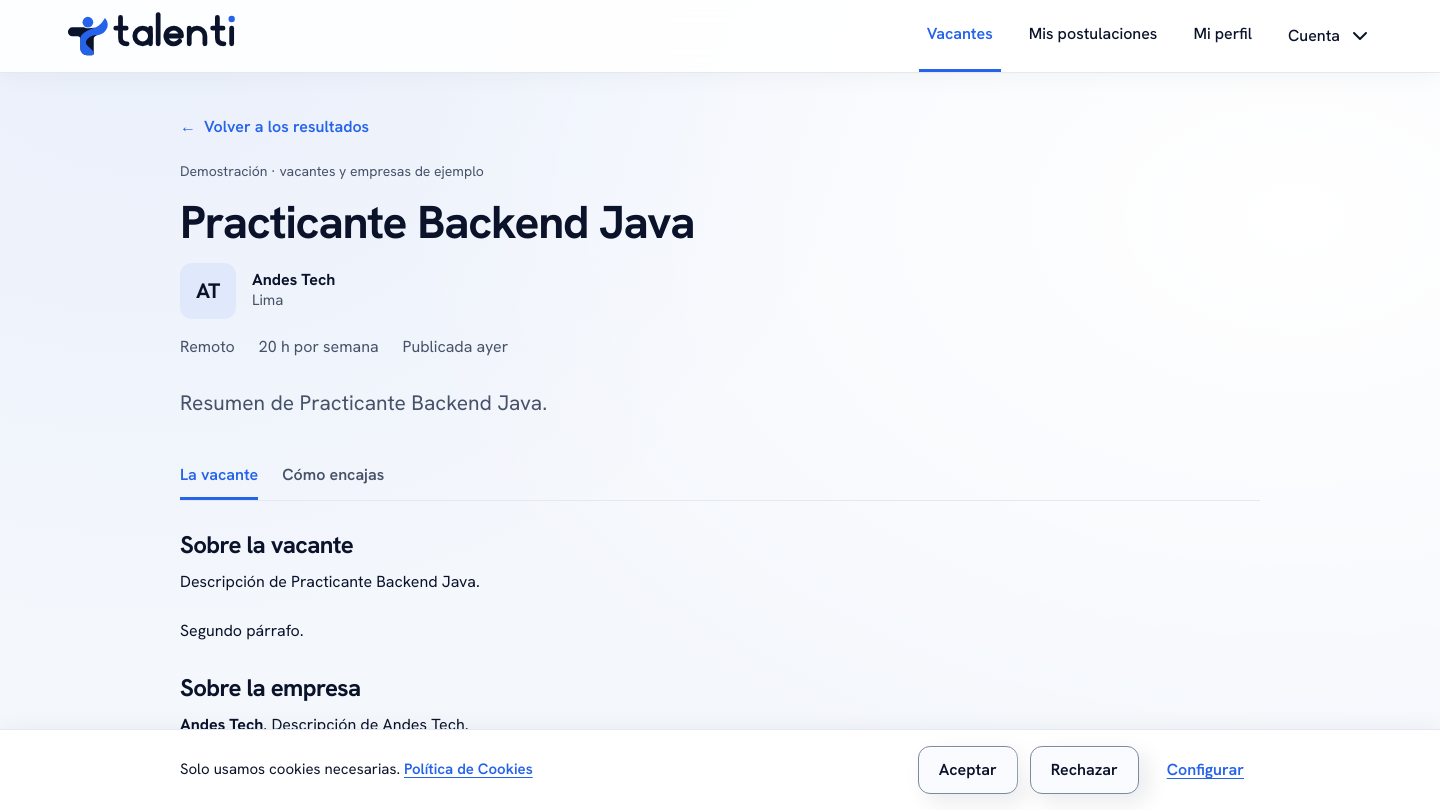
Scenario: Panel "Tu compatibilidad" in the detail (007-18 to 007-21) › 007-19: compares evidence in rows with contextual links and never editable requested levels
The width and height of the screenshot is (1440, 810).
Click the button "Cómo encajas" at (333, 476), box [282,452,384,500]
(page scrolled)
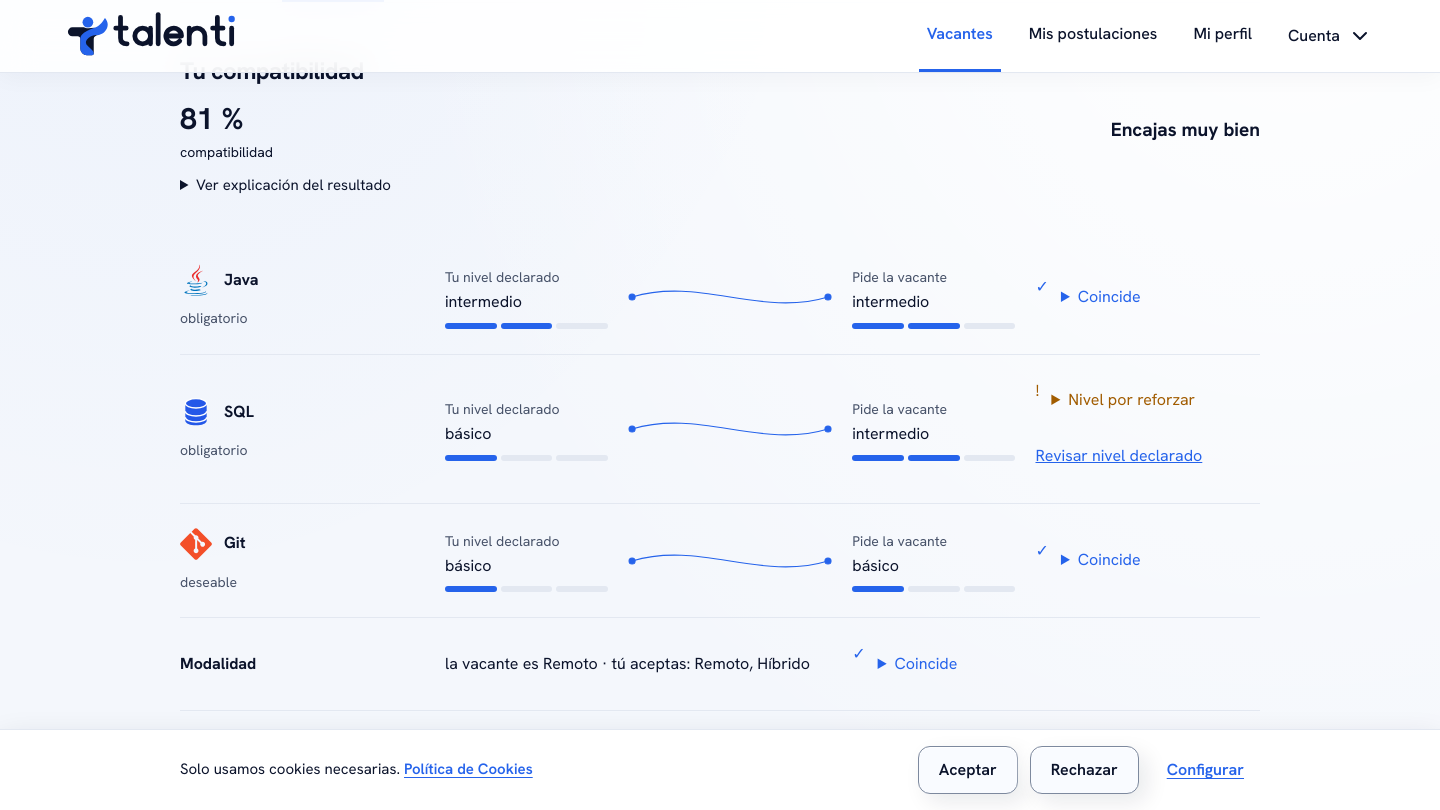
Now the text "Tu nivel declarado" in the row of "SQL" is shown, box [445,400,560,418]
Now the text "Pide la vacante" in the row of "SQL" is shown, box [852,400,947,418]
